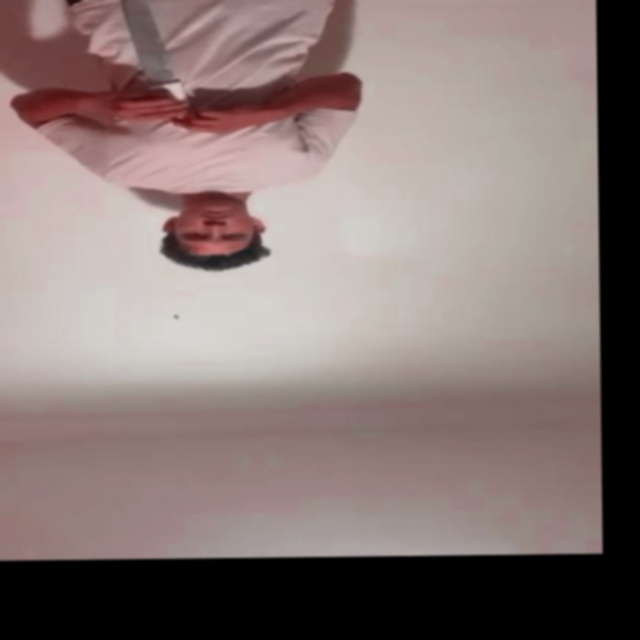Sharp-Object: (122, 0, 174, 85)
